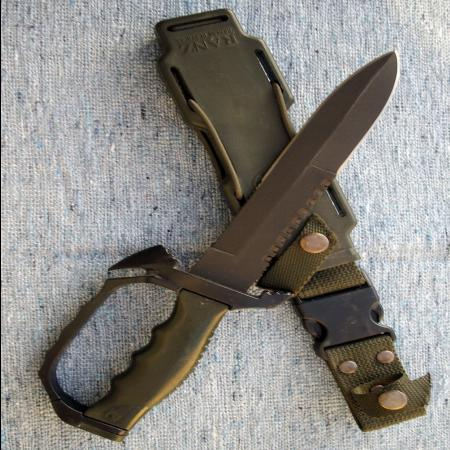long weapon: (186, 46, 408, 294)
